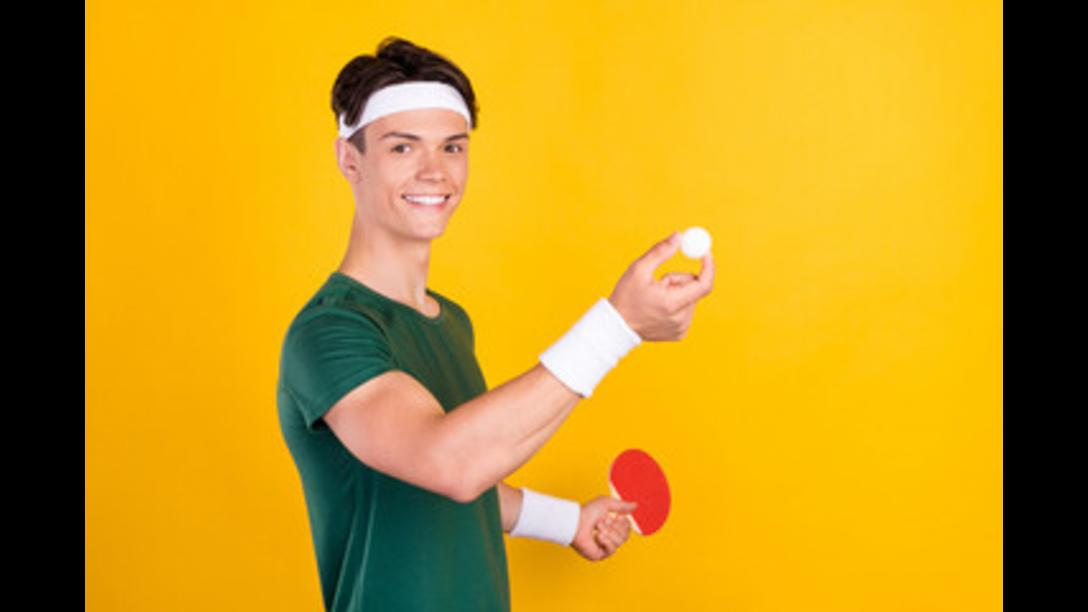Table-Tennis-Ball: (682, 228, 710, 256)
